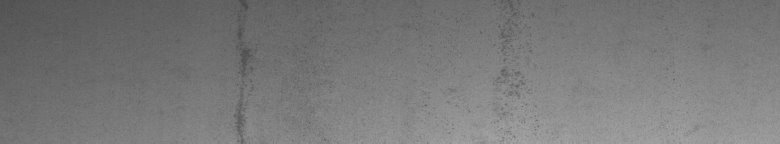ib: (448, 4, 534, 135)
